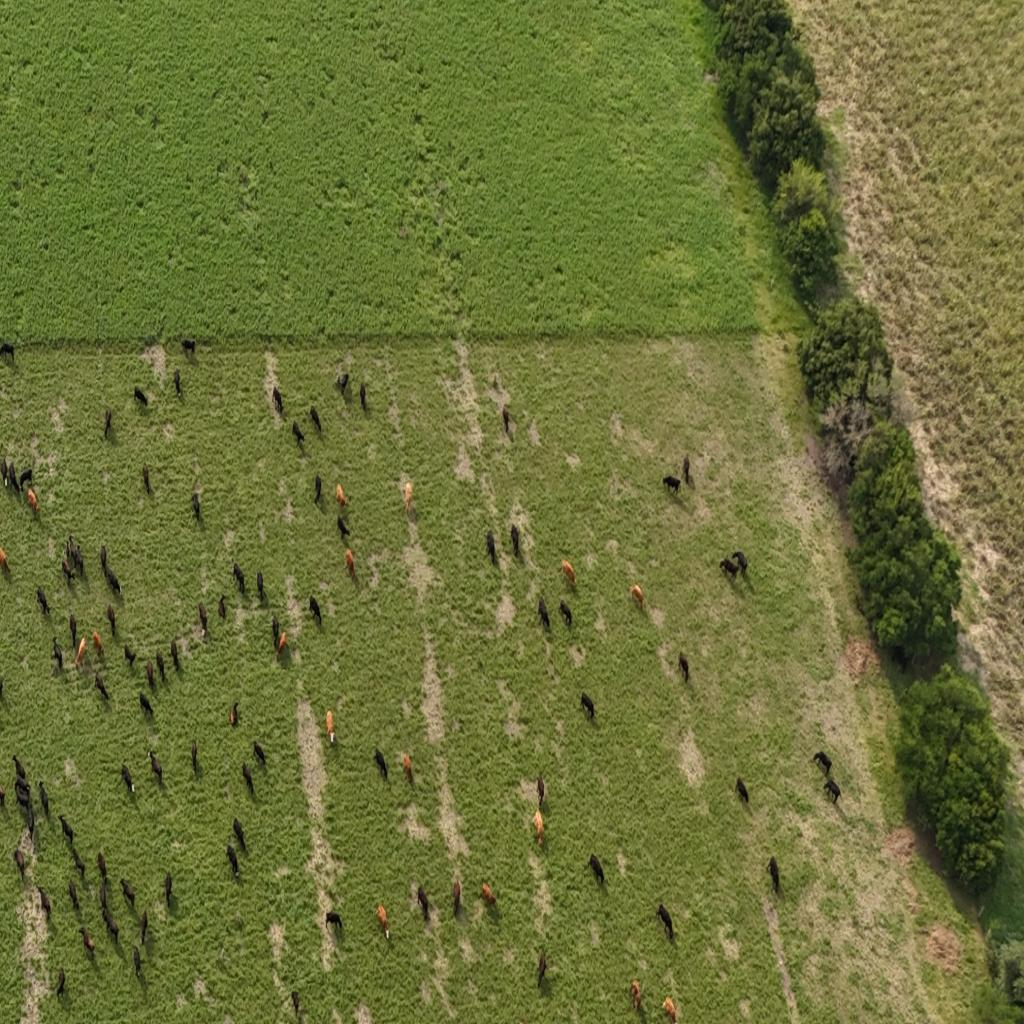cow: (232, 562, 266, 611), (226, 821, 250, 875), (62, 536, 86, 588), (507, 520, 530, 572), (250, 735, 272, 777), (101, 569, 130, 600), (167, 631, 182, 688), (103, 601, 121, 647), (12, 777, 37, 810), (136, 903, 152, 950), (356, 370, 372, 416), (0, 457, 19, 492), (656, 903, 674, 939), (102, 906, 118, 942), (19, 806, 37, 836), (588, 853, 604, 886), (58, 814, 74, 846), (120, 877, 135, 911), (813, 750, 832, 776), (768, 855, 780, 895), (373, 748, 388, 780), (719, 557, 739, 581), (120, 763, 135, 795), (79, 926, 95, 956), (731, 550, 748, 578), (148, 750, 162, 784), (94, 673, 110, 702), (38, 886, 52, 919), (325, 910, 342, 937), (417, 884, 429, 922), (580, 692, 596, 720), (72, 846, 86, 878), (824, 780, 842, 804), (376, 904, 388, 940), (481, 880, 496, 908), (561, 560, 576, 588), (538, 596, 550, 630), (226, 844, 238, 878), (14, 848, 26, 882), (68, 878, 80, 912), (533, 808, 544, 845), (36, 587, 50, 616), (894, 648, 909, 675), (537, 949, 547, 989), (630, 978, 642, 1011), (39, 782, 50, 818), (662, 996, 676, 1024), (139, 692, 153, 720), (336, 483, 349, 513), (75, 636, 87, 668), (233, 562, 245, 594), (242, 762, 254, 794), (61, 559, 75, 586), (736, 776, 749, 805), (559, 599, 572, 628), (309, 597, 322, 626), (486, 530, 497, 564), (52, 636, 63, 670), (630, 583, 644, 609), (13, 754, 26, 782), (662, 476, 682, 494), (678, 653, 690, 683), (452, 879, 461, 917), (98, 877, 108, 911), (292, 421, 305, 447), (92, 630, 104, 658), (336, 516, 350, 540), (19, 467, 33, 491), (28, 488, 40, 516), (0, 342, 15, 364), (536, 773, 545, 809), (402, 752, 412, 784), (198, 604, 208, 636), (155, 651, 165, 683), (191, 493, 202, 522), (0, 547, 11, 576), (124, 644, 136, 670), (345, 548, 355, 579), (272, 386, 283, 414), (310, 405, 321, 433), (326, 709, 335, 743), (97, 850, 107, 880), (56, 968, 66, 998), (180, 338, 196, 356), (165, 872, 173, 908), (134, 386, 147, 408), (277, 630, 287, 658), (69, 612, 77, 647), (146, 659, 155, 690), (336, 373, 349, 394), (0, 457, 9, 487), (404, 481, 412, 514), (66, 534, 74, 567), (173, 369, 182, 398), (230, 700, 240, 726), (847, 456, 857, 482), (142, 462, 150, 494), (133, 946, 141, 978), (291, 990, 300, 1018), (191, 739, 198, 774), (104, 408, 112, 438), (314, 474, 322, 504), (99, 544, 107, 574), (682, 455, 690, 484), (502, 406, 510, 434), (272, 616, 279, 647), (218, 596, 226, 620), (0, 783, 7, 809), (0, 678, 5, 702), (493, 375, 499, 389)
